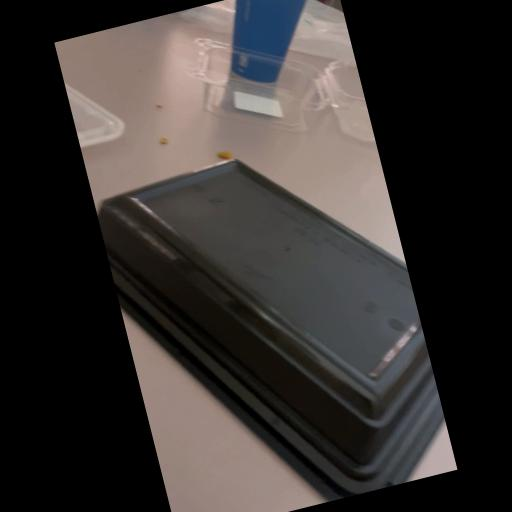lp_paper_cup: (218, 0, 326, 86)
rigid_plastic_container: (92, 126, 452, 512)
rigid_plastic_lid: (62, 59, 130, 148)
